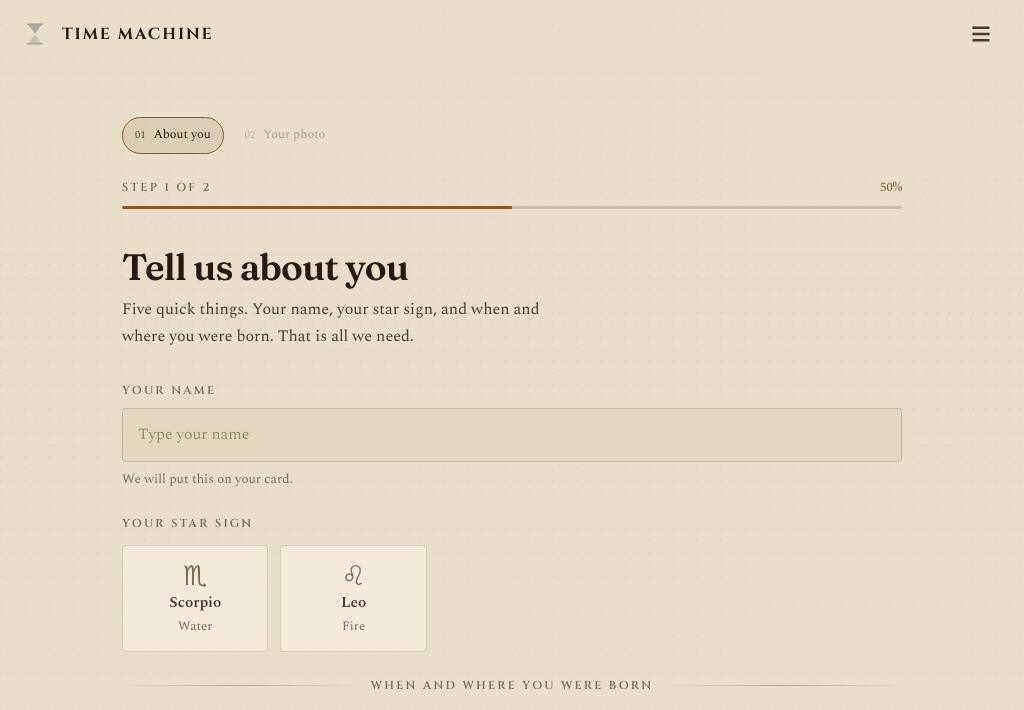
Test case: Past wizard › asks for nothing but the five things the reader knows
This screenshot has width=1024, height=710.
Expected: the heading "Tell us about you" is shown, [122,244,408,289]
Expected: the field labelled "Your name" is shown, [122,408,902,462]
Click the radio button labelled "Scorpio Water" at (195, 599), box [122,545,268,652]
(page scrolled)
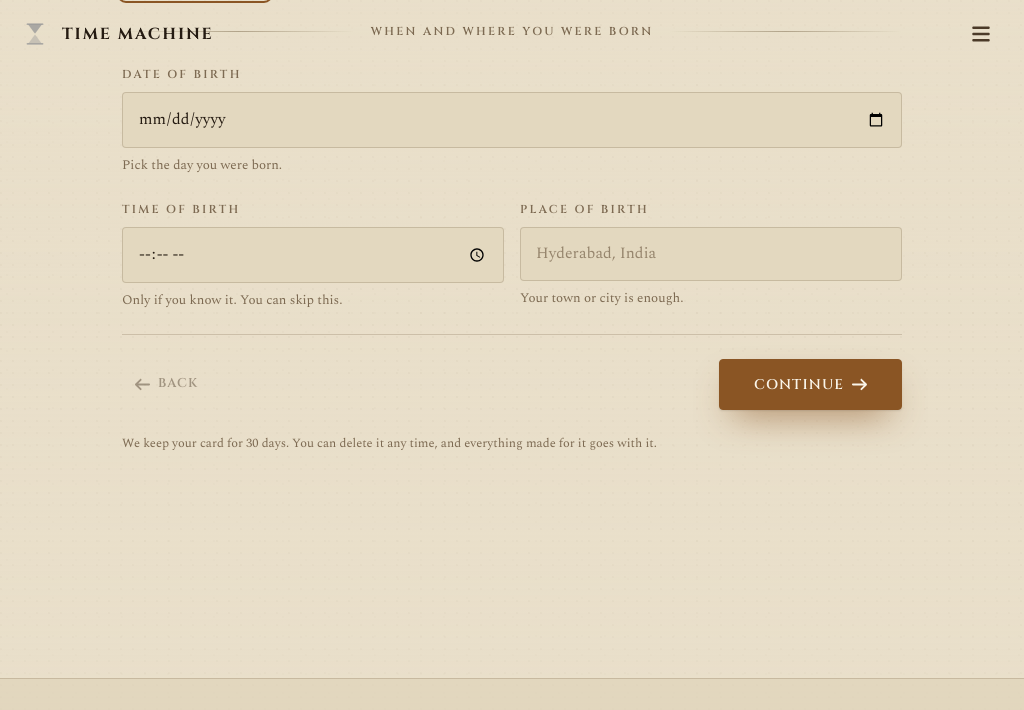
Click the button "Continue" at (810, 385), box [719,359,902,410]
(page scrolled)
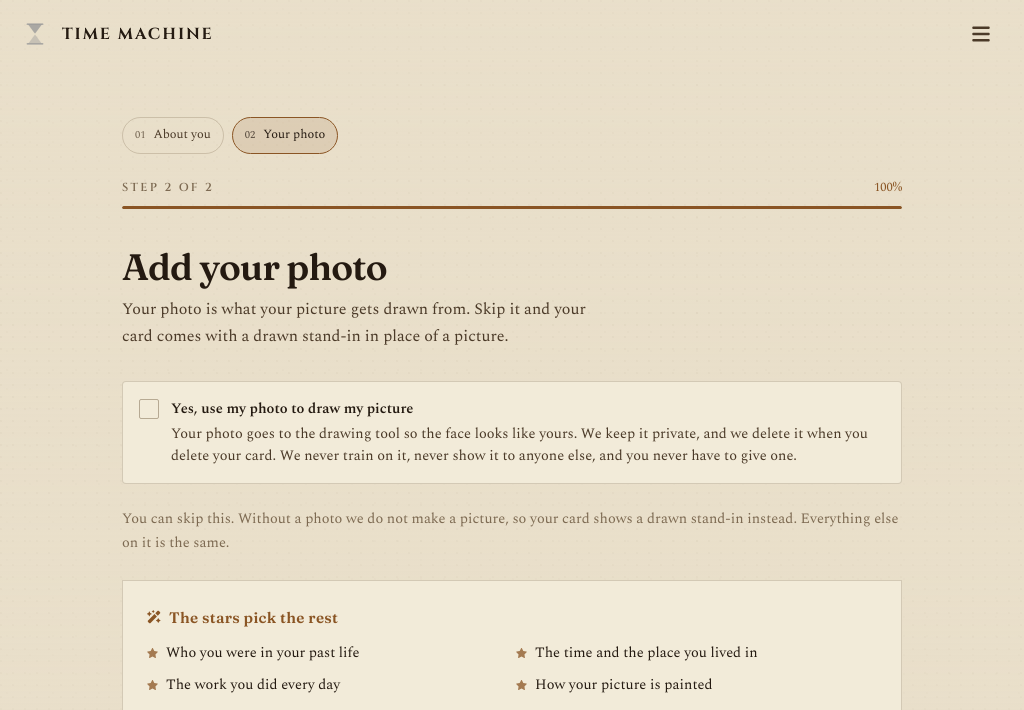
Expected: the heading "Add your photo" is shown, [122,244,387,289]
Expected: the text "The stars pick the rest" is shown, [147,608,338,627]
Expected: the button "Continue" is gone
